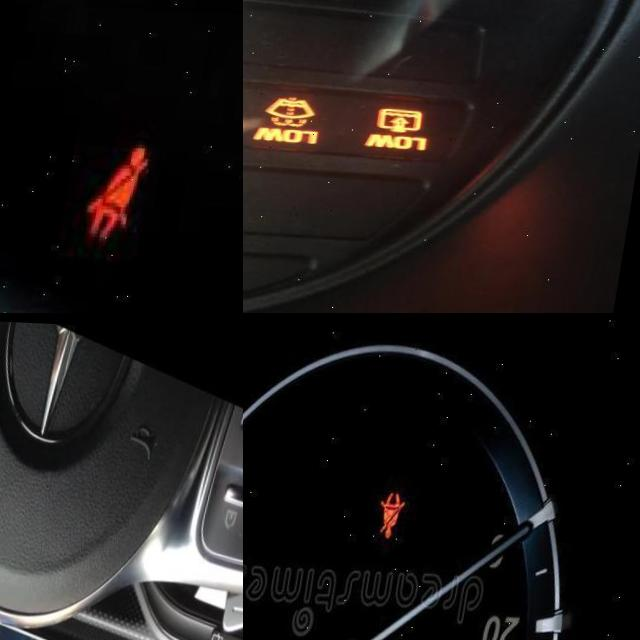Seat Belt: (91, 133, 157, 236), (382, 487, 415, 537)
Washer Fluid: (269, 92, 326, 126)
